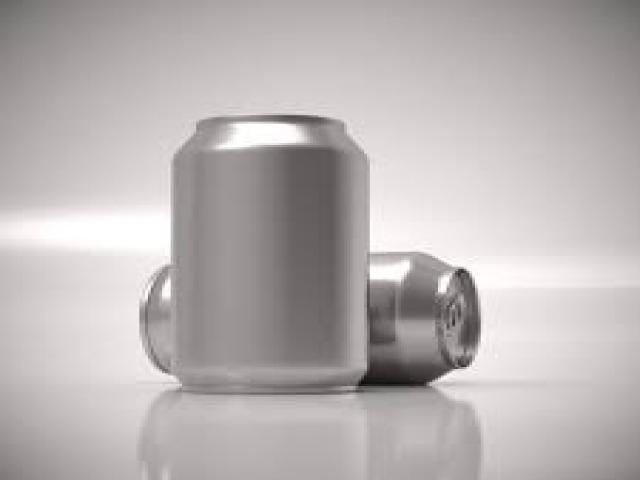Canned_drinks: (171, 115, 367, 393), (137, 248, 480, 386)
